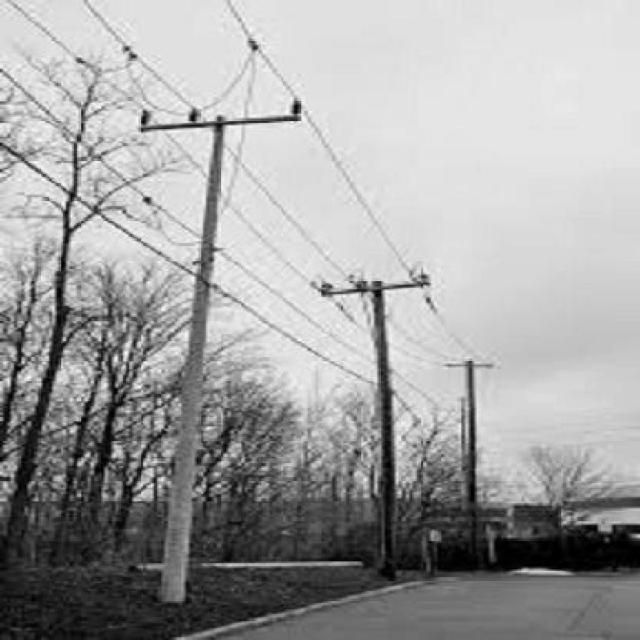Pole: (140, 100, 301, 603), (446, 359, 494, 563), (373, 280, 395, 578)
